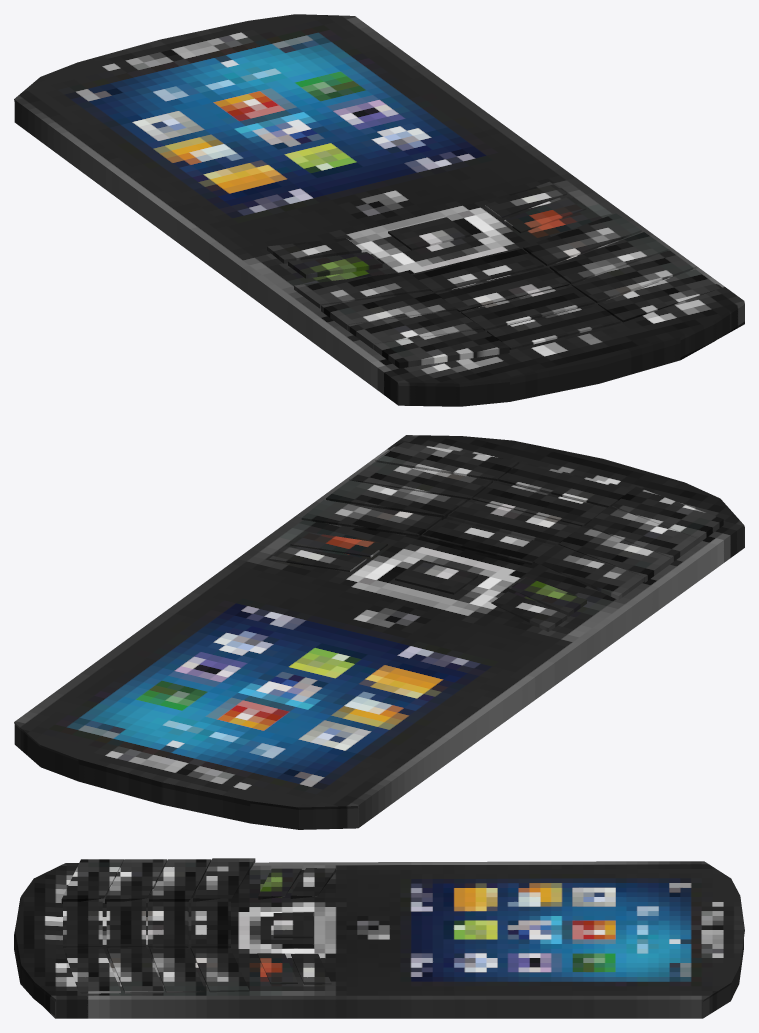
Rendered from Celular.fbx.
The picture shows the model from 3 angles, top to bottom: view 1: azimuth 30°, elevation 25°; view 2: azimuth 150°, elevation 25°; view 3: azimuth 270°, elevation 25°; orthographic projection. The views are drawn at different scales.
Visible parts, largest first — view 1: buttonOK; view 2: buttonOK; view 3: buttonOK.
Part boxes in pixels (x1,y1,x2,y2): buttonOK: [14, 14, 744, 406]; buttonOK: [14, 435, 744, 829]; buttonOK: [14, 858, 744, 1018].
Bounding box in the file's own units: 421 × 39.52 × 938.
Materials: 1 (1 with a texture image).
